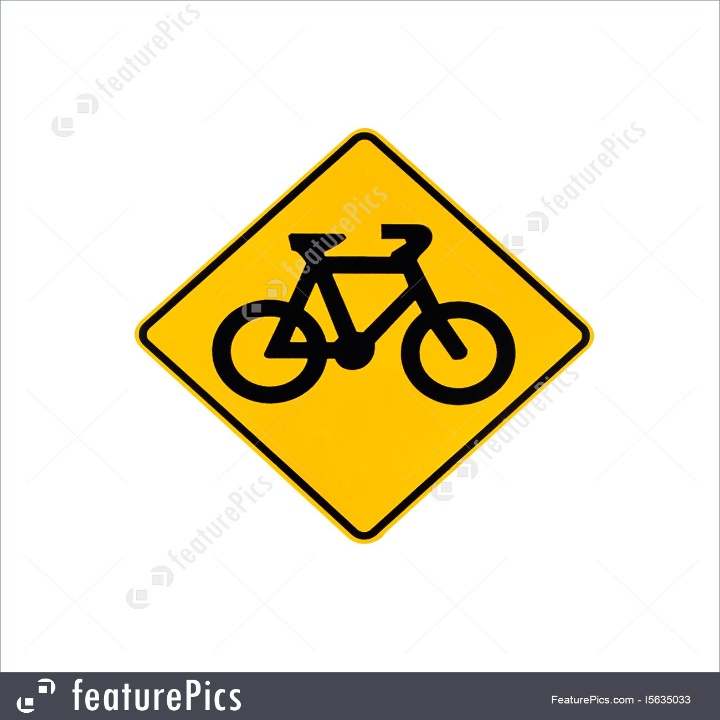bicycle: (210, 219, 517, 407)
